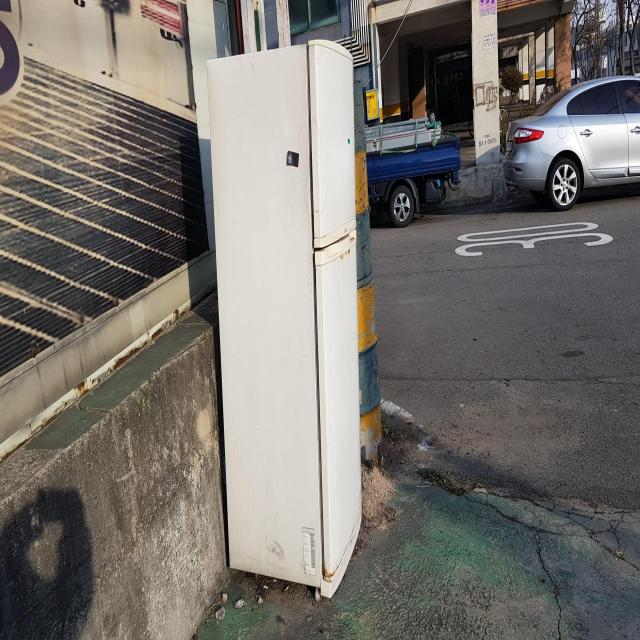refrigerator: (204, 32, 368, 606)
